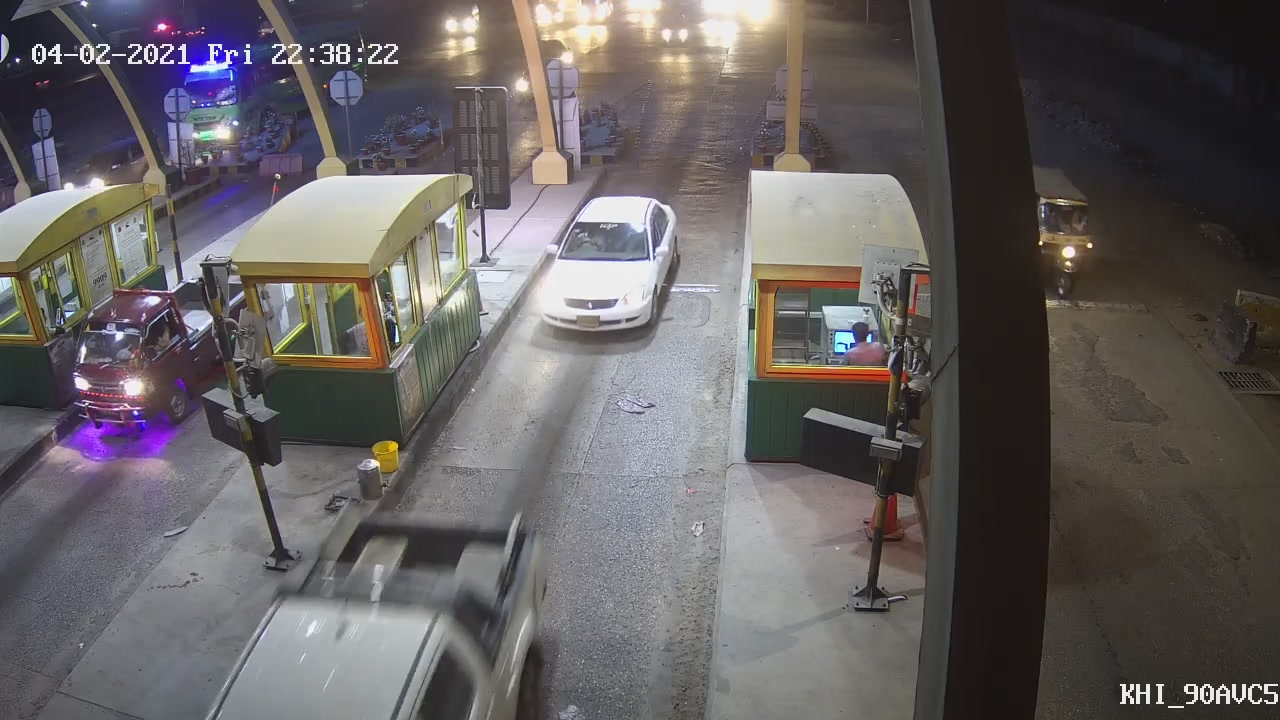F1: (535, 185, 682, 339)
